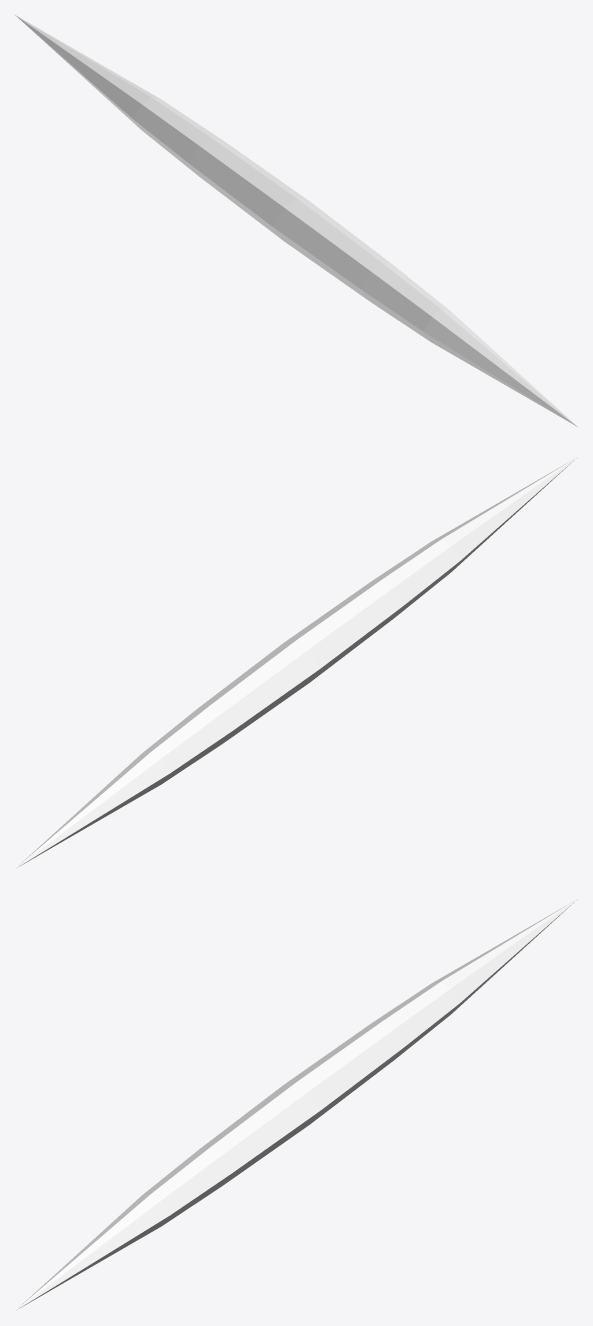
Rendered from laser_danmaku.obj.
3 views of the same model, one above another, from view 1: azimuth 30°, elevation 25°; view 2: azimuth 150°, elevation 25°; view 3: azimuth 330°, elevation 25° (orthographic).
Visible parts, largest first — view 1: laser_danmaku; view 2: laser_danmaku; view 3: laser_danmaku.
Part boxes in pixels (<box>): laser_danmaku: <box>15,15,577,426</box>; laser_danmaku: <box>15,457,577,868</box>; laser_danmaku: <box>15,899,577,1310</box>.
Size of the model in its own units: 0.1347 by 0.1231 by 2.76.
